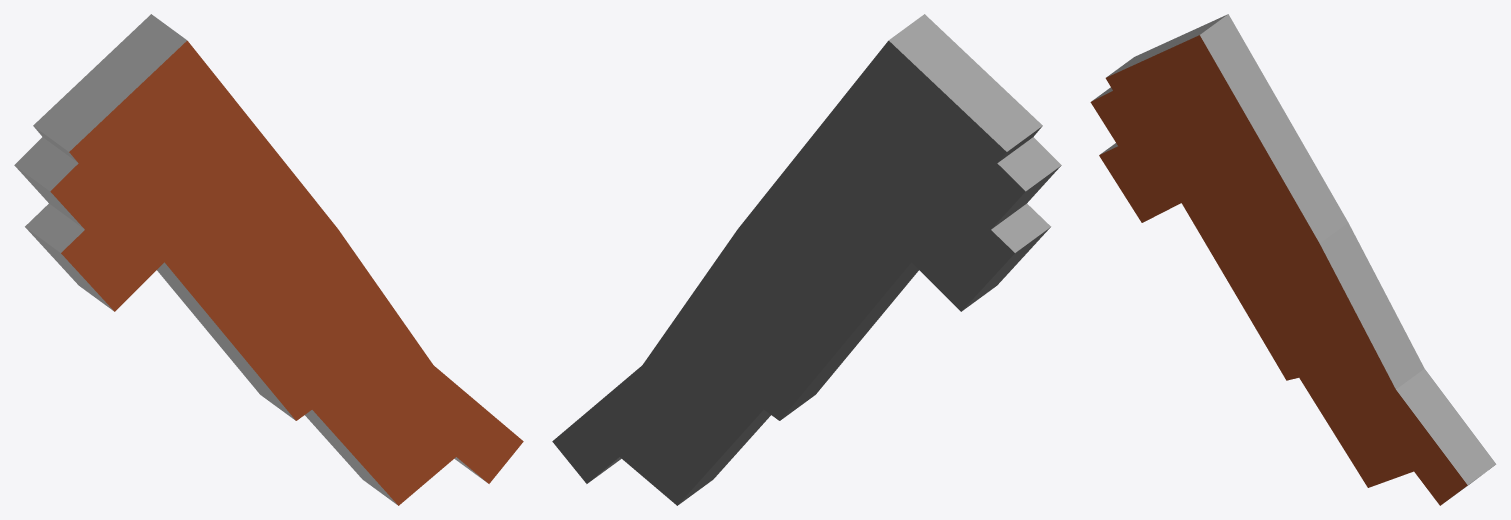
Rendered from construction_3838_assumed_A_Casa_h6m.obj.
3 views of the same model, side by side, from view 1: azimuth 30°, elevation 25°; view 2: azimuth 150°, elevation 25°; view 3: azimuth 330°, elevation 25° (orthographic). The views are drawn at different scales.
Parts seen in each view (by area): view 1: construction_3838_assumed_A_Casa; view 2: construction_3838_assumed_A_Casa; view 3: construction_3838_assumed_A_Casa.
Part boxes in pixels (x1,y1,x2,y2): construction_3838_assumed_A_Casa: (14,14,523,505); construction_3838_assumed_A_Casa: (552,14,1061,505); construction_3838_assumed_A_Casa: (1090,14,1496,505).
Size of the model in its own units: 45.47 by 47.48 by 6.
